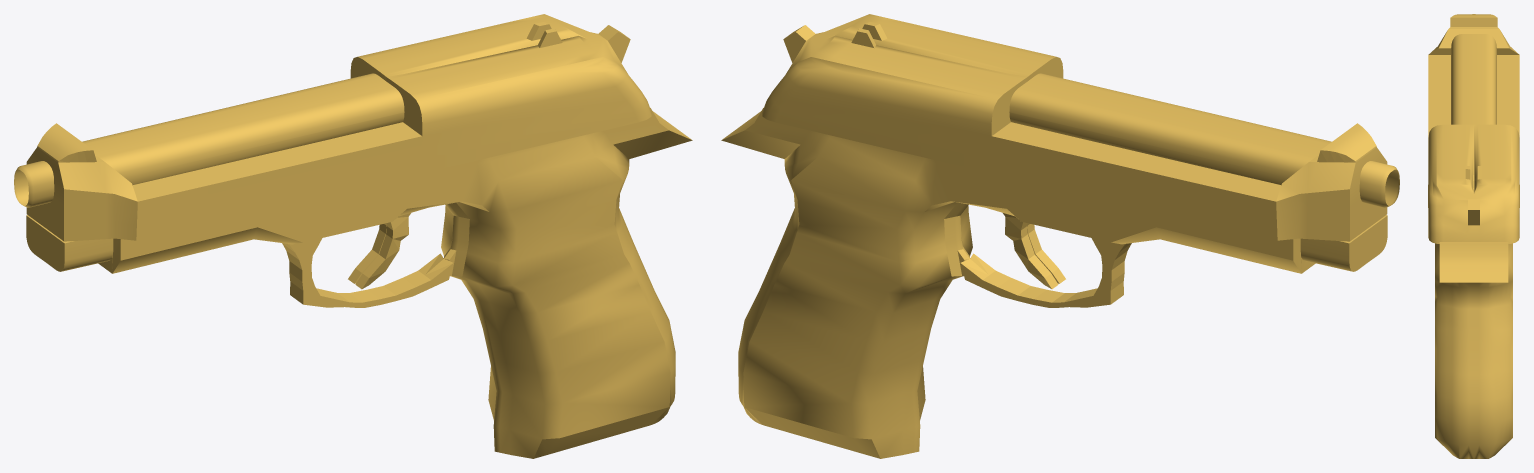
The model's file is pistola3.fbx.
The picture shows the model from 3 angles, left to right: view 1: azimuth 30°, elevation 25°; view 2: azimuth 150°, elevation 25°; view 3: azimuth 270°, elevation 25°; orthographic projection. The views are drawn at different scales.
Parts seen in each view (by area): view 1: Pistola; view 2: Pistola; view 3: Pistola.
Part boxes in pixels (left/top/right/bottom): Pistola: left=14, top=14, right=692, bottom=458; Pistola: left=721, top=14, right=1399, bottom=458; Pistola: left=1428, top=14, right=1519, bottom=458.
Size of the model in its own units: 30.31 by 5.88 by 18.75.
